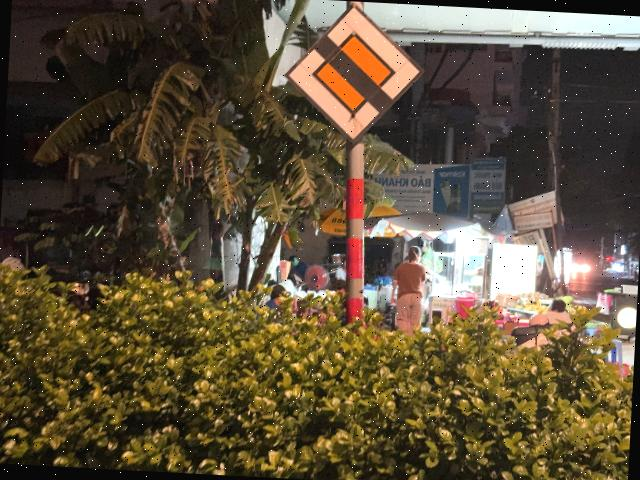het-duong-uu-tien: (278, 0, 429, 148)
